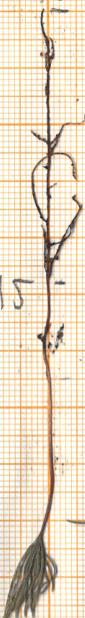flower: (0, 533, 63, 614)
root: (28, 9, 83, 277)
stem: (36, 279, 56, 532)
